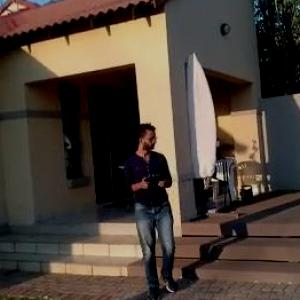follow: (121, 121, 181, 299)
